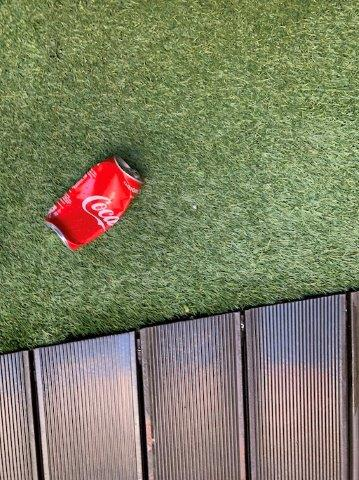kaleng: (45, 156, 144, 248)
